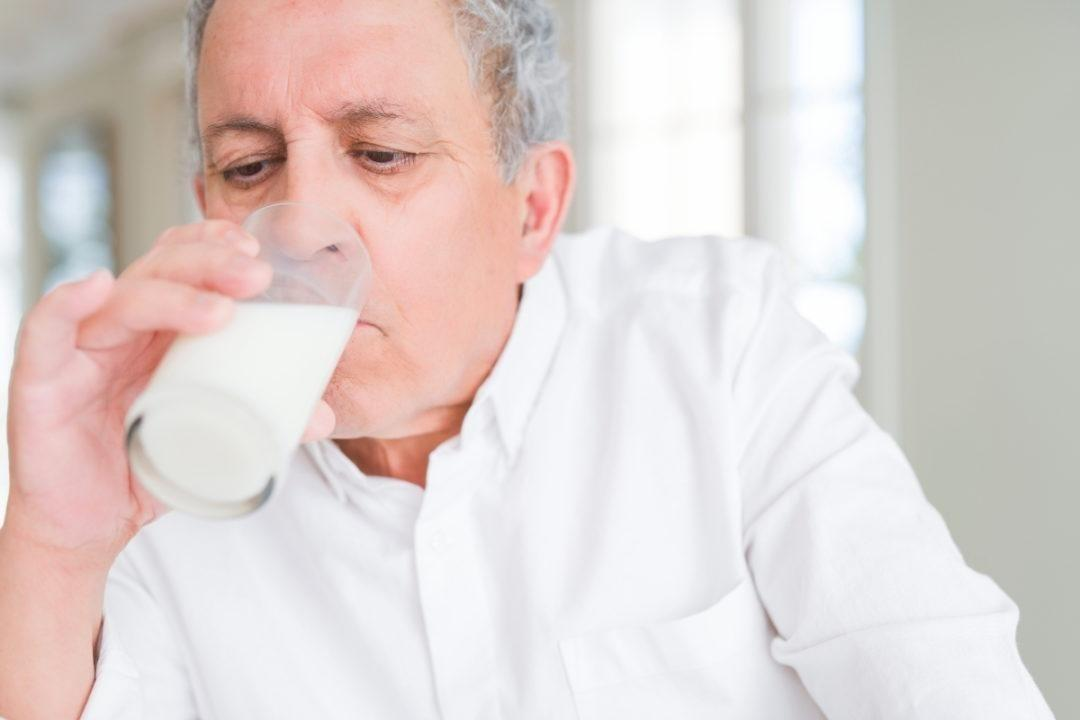glass-normal: (119, 194, 375, 529)
